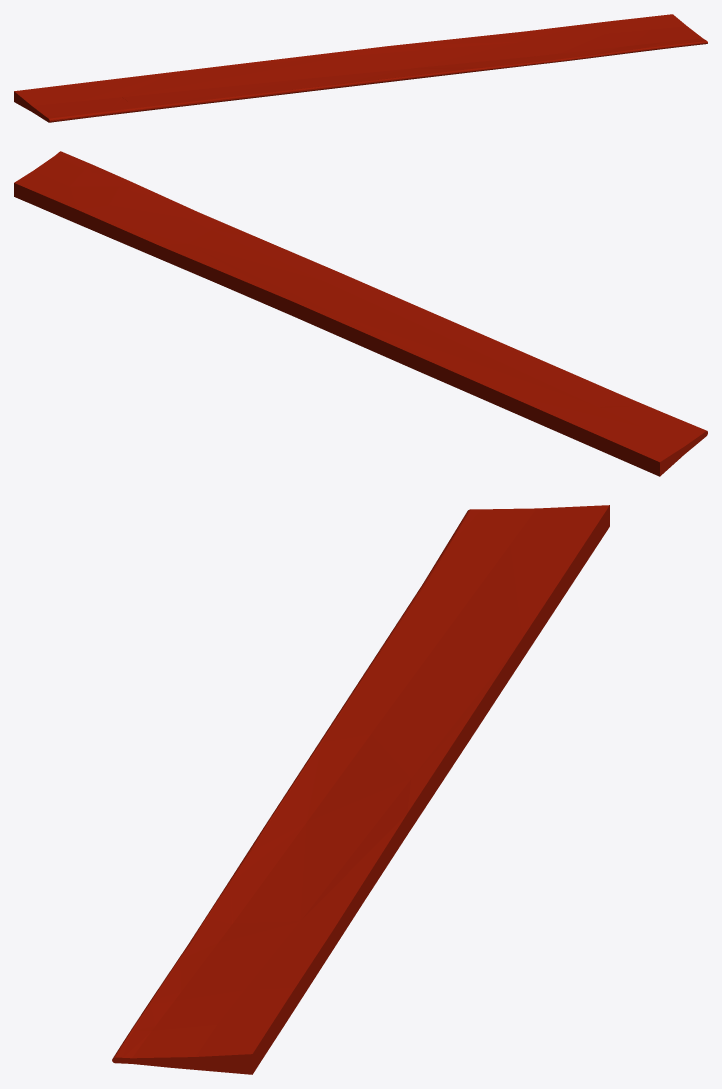
Rendered from x8_elevon_right.dae.
3 renders of one model, top to bottom at view 1: azimuth 30°, elevation 25°; view 2: azimuth 150°, elevation 25°; view 3: azimuth 270°, elevation 25°, orthographic. The views are drawn at different scales.
Visible parts, largest first — view 1: node; view 2: node; view 3: node.
Boxes of the visible parts, x1,y1,x2,y2 form: node: (14, 14, 707, 122); node: (14, 151, 707, 476); node: (112, 505, 609, 1074).
Bounding box in the file's own units: 0.485 × 0.1836 × 0.0116.
